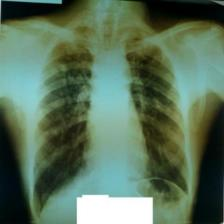tuberculosis: (30, 23, 194, 216)
